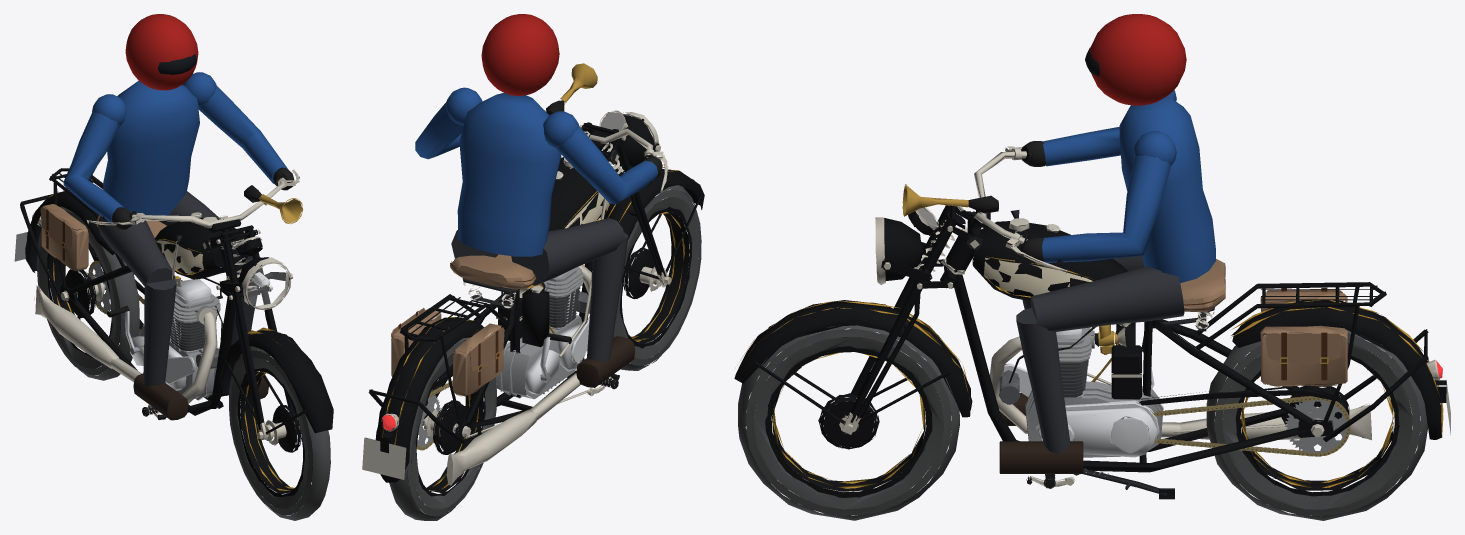
Rendered from vb_vintage.glb.
The picture shows the model from 3 angles, left to right: view 1: azimuth 30°, elevation 25°; view 2: azimuth 150°, elevation 25°; view 3: azimuth 270°, elevation 25°; orthographic projection. The views are drawn at different scales.
Parts seen in each view (by area): view 1: body, rider_torso, fork, wheel_front, rider_legs, wheel_rear, rider_head; view 2: body, rider_torso, rider_legs, wheel_front, fork, wheel_rear, rider_head; view 3: body, wheel_front, fork, rider_torso, wheel_rear, rider_legs, rider_head.
Part boxes in pixels (x1,y1,x2,y2): body: (14, 168, 245, 419); rider_torso: (63, 72, 294, 229); fork: (87, 169, 333, 440); wheel_front: (229, 346, 330, 520); rider_legs: (97, 191, 268, 420); wheel_rear: (36, 206, 139, 380); rider_head: (125, 14, 198, 90); body: (362, 150, 619, 485); rider_torso: (415, 87, 662, 256); rider_legs: (451, 218, 635, 387); wheel_front: (613, 185, 701, 370); fork: (544, 63, 704, 287); wheel_rear: (389, 337, 496, 520); rider_head: (481, 14, 559, 95); body: (941, 210, 1450, 499); wheel_front: (738, 325, 959, 520); fork: (734, 146, 1068, 434); rider_torso: (1020, 90, 1215, 282); wheel_rear: (1206, 329, 1427, 520); rider_legs: (999, 255, 1184, 473); rider_head: (1085, 14, 1186, 105).
Bounding box in the file's own units: 0.8803 × 1.65 × 2.14.
